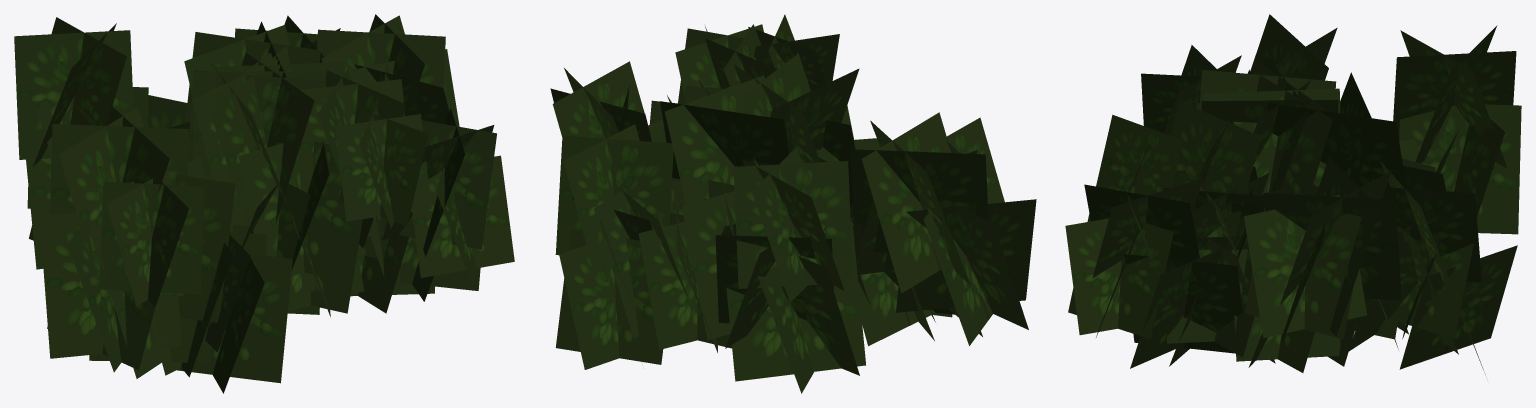
File: SM_Art_Veg_Broadleaf_1_LeavesDark.gltf
The picture shows the model from 3 angles, left to right: view 1: azimuth 30°, elevation 25°; view 2: azimuth 150°, elevation 25°; view 3: azimuth 270°, elevation 25°; orthographic projection. The views are drawn at different scales.
Parts seen in each view (by area): view 1: SM_Art_Veg_Broadleaf_1_LeavesDark; view 2: SM_Art_Veg_Broadleaf_1_LeavesDark; view 3: SM_Art_Veg_Broadleaf_1_LeavesDark.
Part boxes in pixels (<box>): SM_Art_Veg_Broadleaf_1_LeavesDark: <box>14,14,514,393</box>; SM_Art_Veg_Broadleaf_1_LeavesDark: <box>550,14,1036,393</box>; SM_Art_Veg_Broadleaf_1_LeavesDark: <box>1065,14,1521,374</box>.
Size of the model in its own units: 8.73 by 4.48 by 7.59.
1 material, 1 textured.
